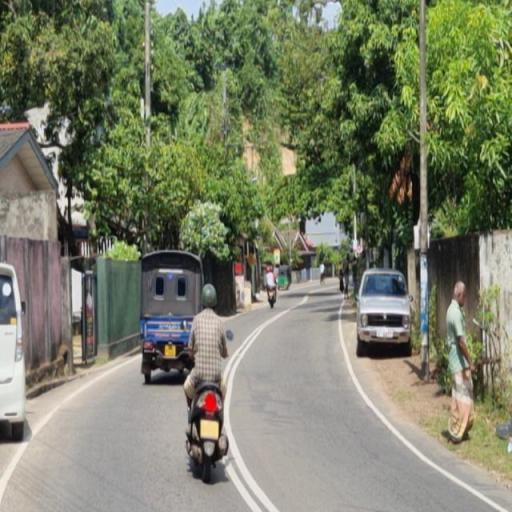double_white_line: (226, 430, 280, 510)
